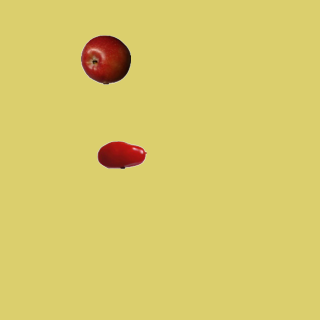Apple Braeburn: (80, 34, 130, 84)
Tomato 2: (96, 129, 146, 179)
